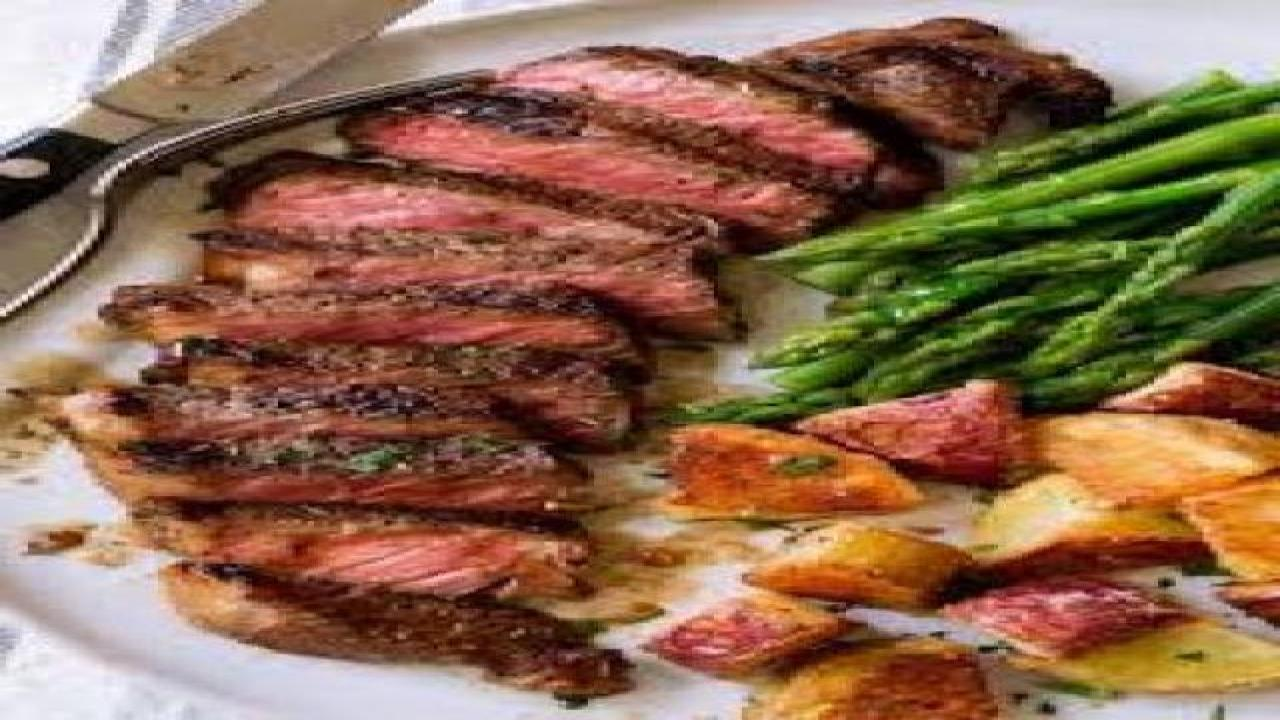Carne: (40, 6, 1126, 696)
